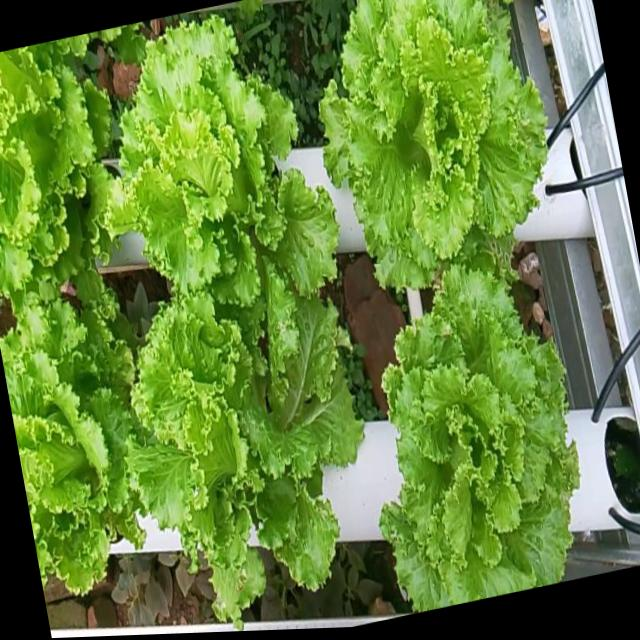Mature: (117, 291, 358, 624), (374, 243, 576, 612), (101, 8, 329, 325), (309, 0, 541, 281), (0, 303, 134, 604), (0, 43, 95, 316)
